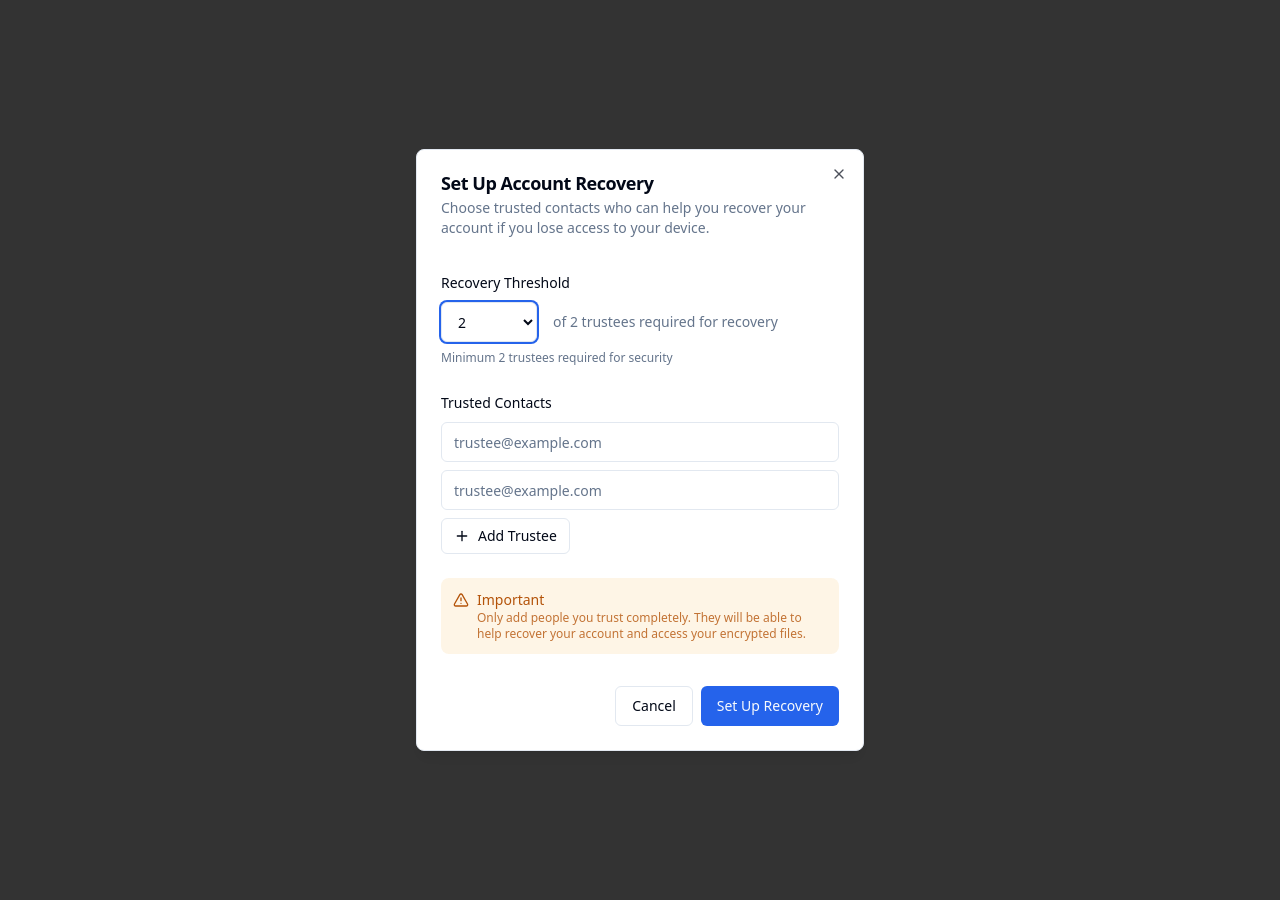
Test case: RecoverySetupDialog › interactions › should validate email format and show error for invalid email
Type "invalid-email" into the 1st field with placeholder "trustee@example.com" at (640, 442), box [441, 422, 839, 462]
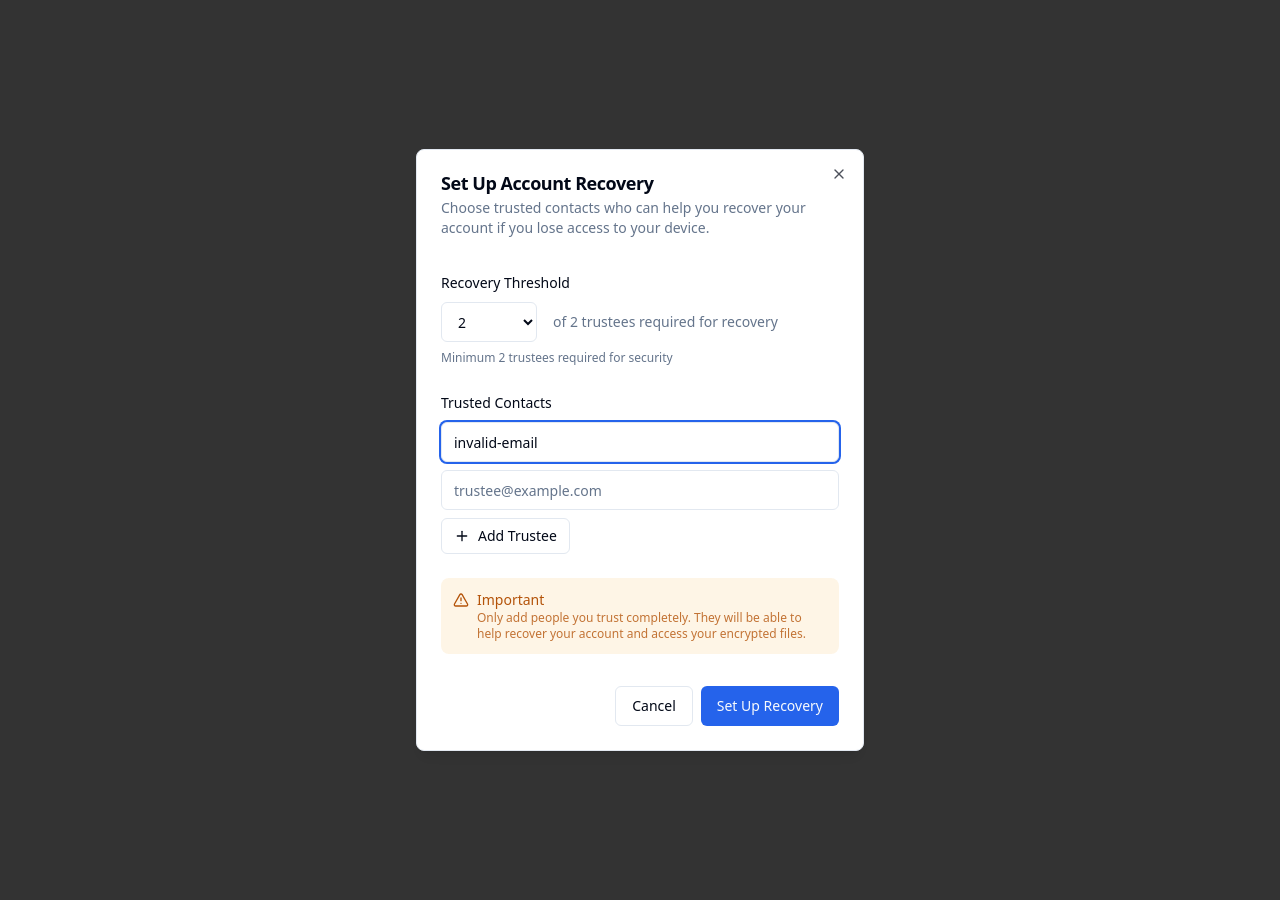
Type "test@example.com" into the field with placeholder "trustee@example.com" at (640, 490), box [441, 470, 839, 510]
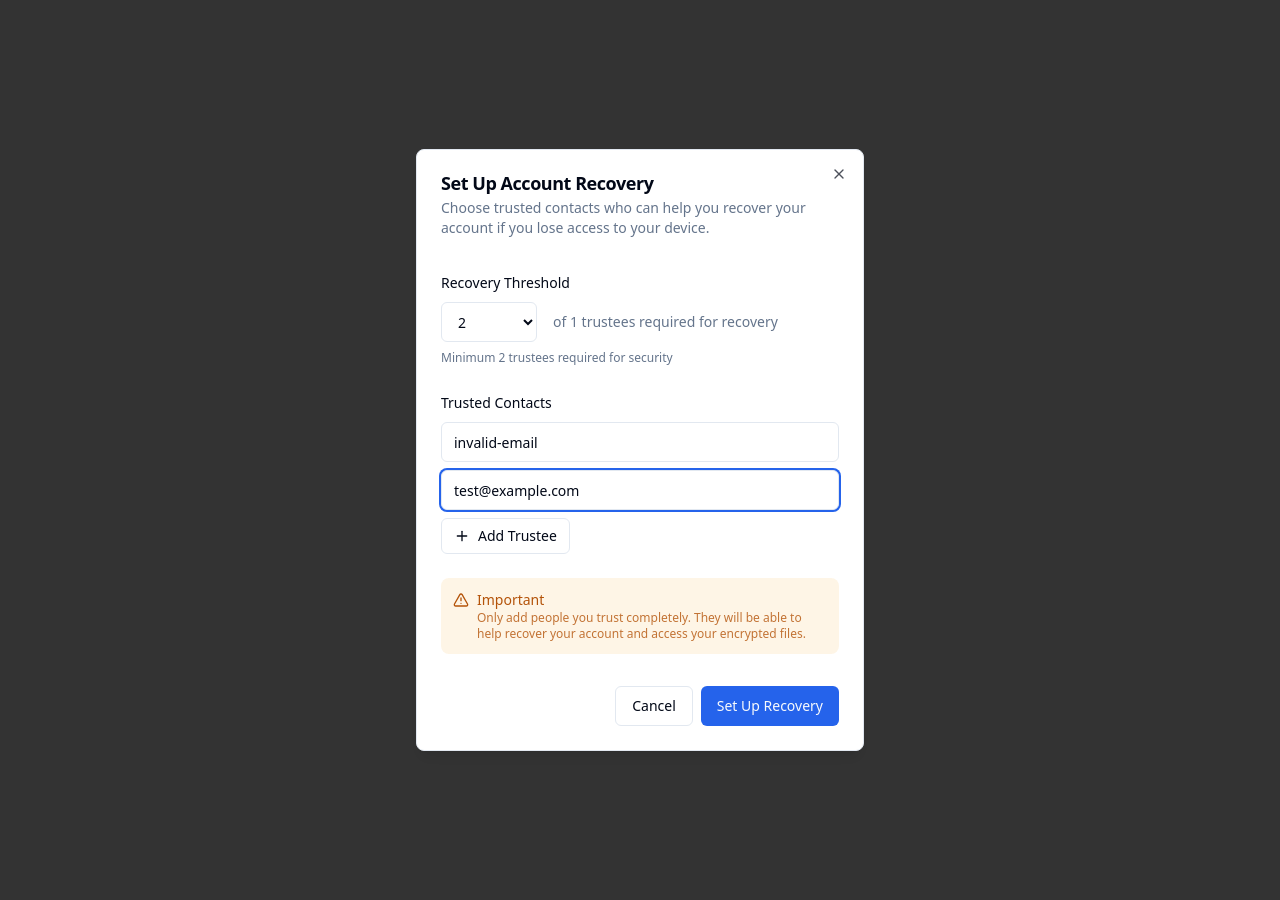
Click the button "Set Up Recovery" at (770, 706), box [701, 686, 839, 726]
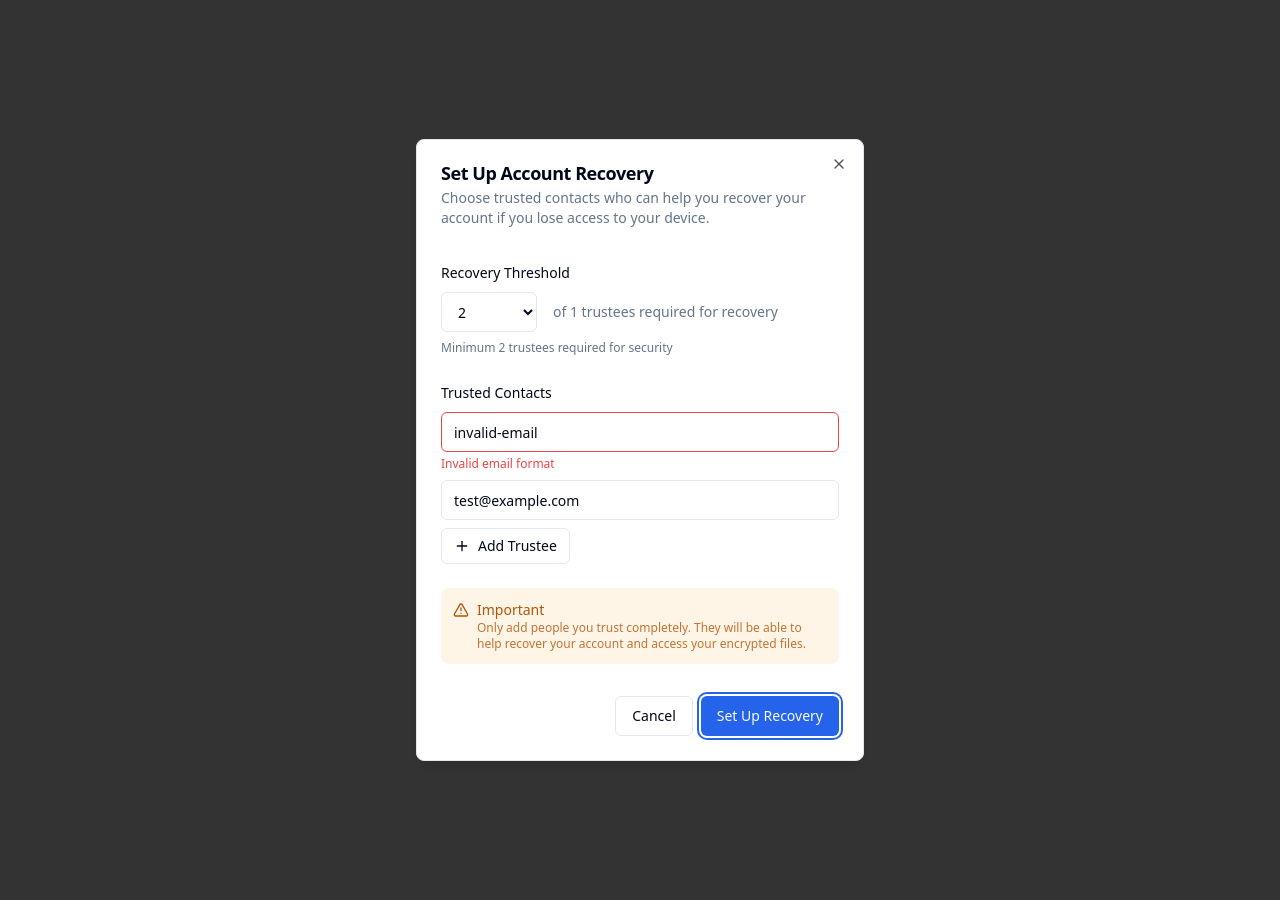
Expected: the text "Invalid email format" is shown, [441, 455, 555, 472]
